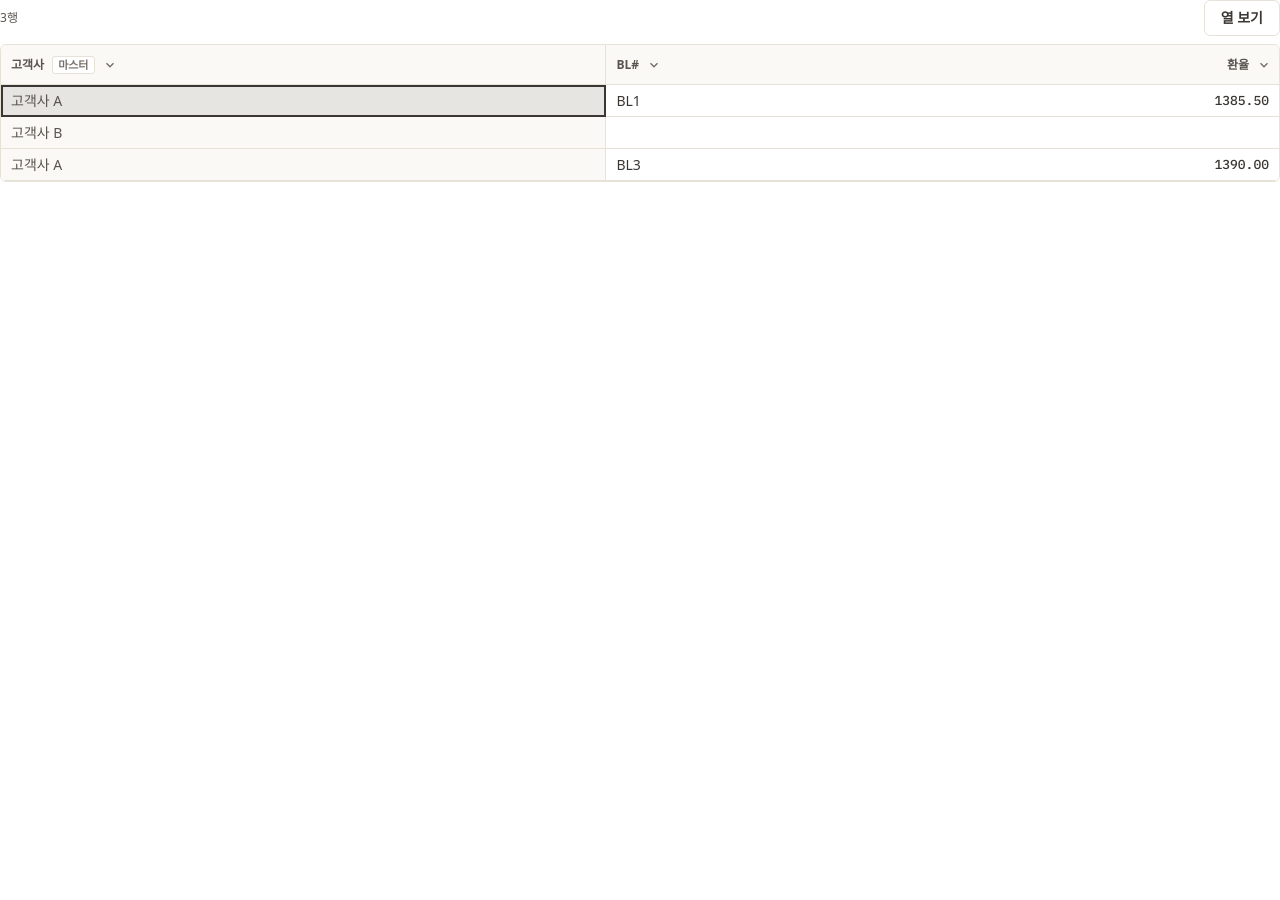
Test: 열 필터에서 값을 빼면 그 행이 숨고, 몇 행 중 몇 행인지 알려줘요
The image size is (1280, 900).
Step 1. Click the button named "고객사 필터와 정렬" → (110, 64), box top-left (98, 54), bottom-right (120, 76)
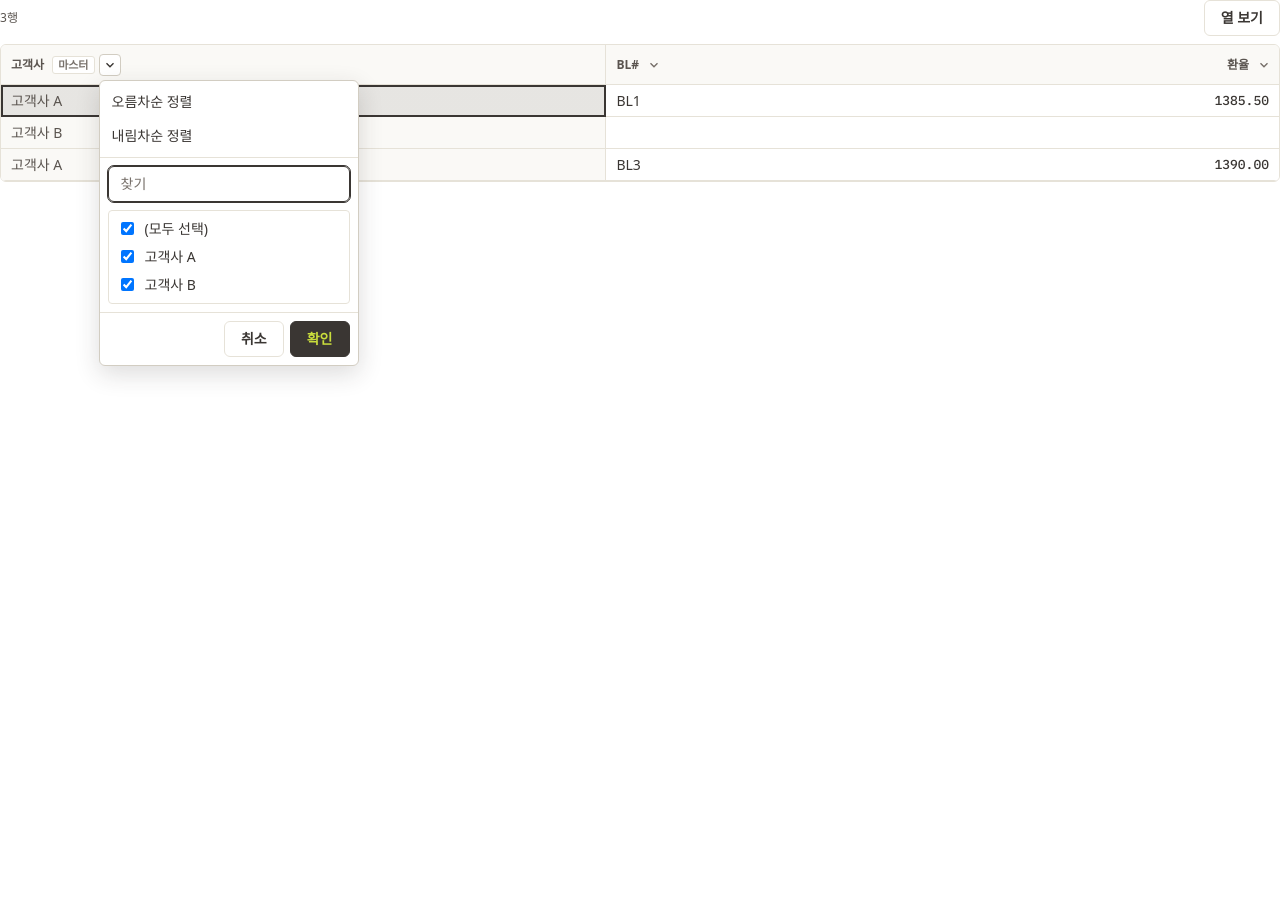
Step 2. Click the checkbox labelled "고객사 B" → (127, 284), box top-left (120, 278), bottom-right (134, 291)
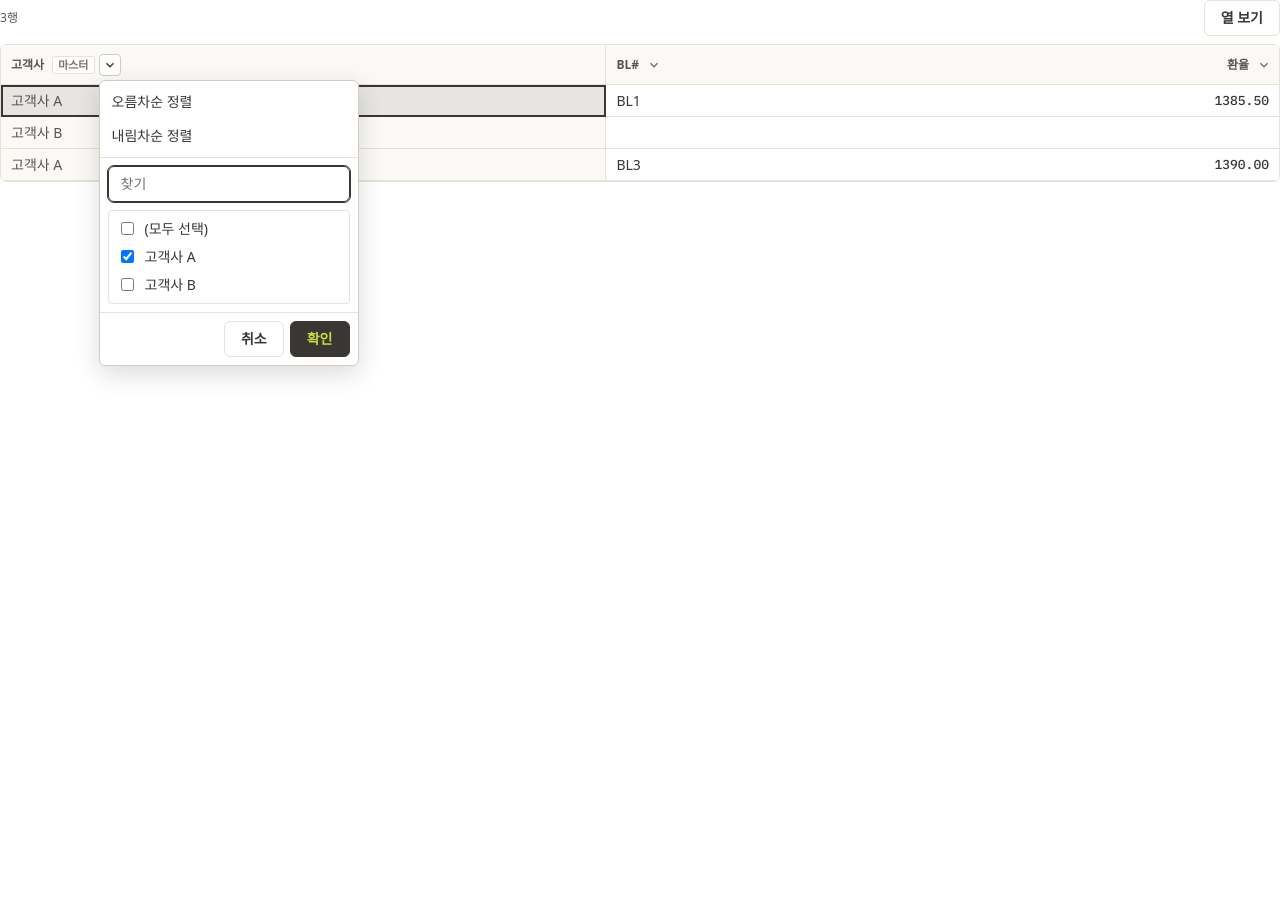
Step 3. Click the button "확인" → (320, 338), box top-left (290, 320), bottom-right (350, 356)
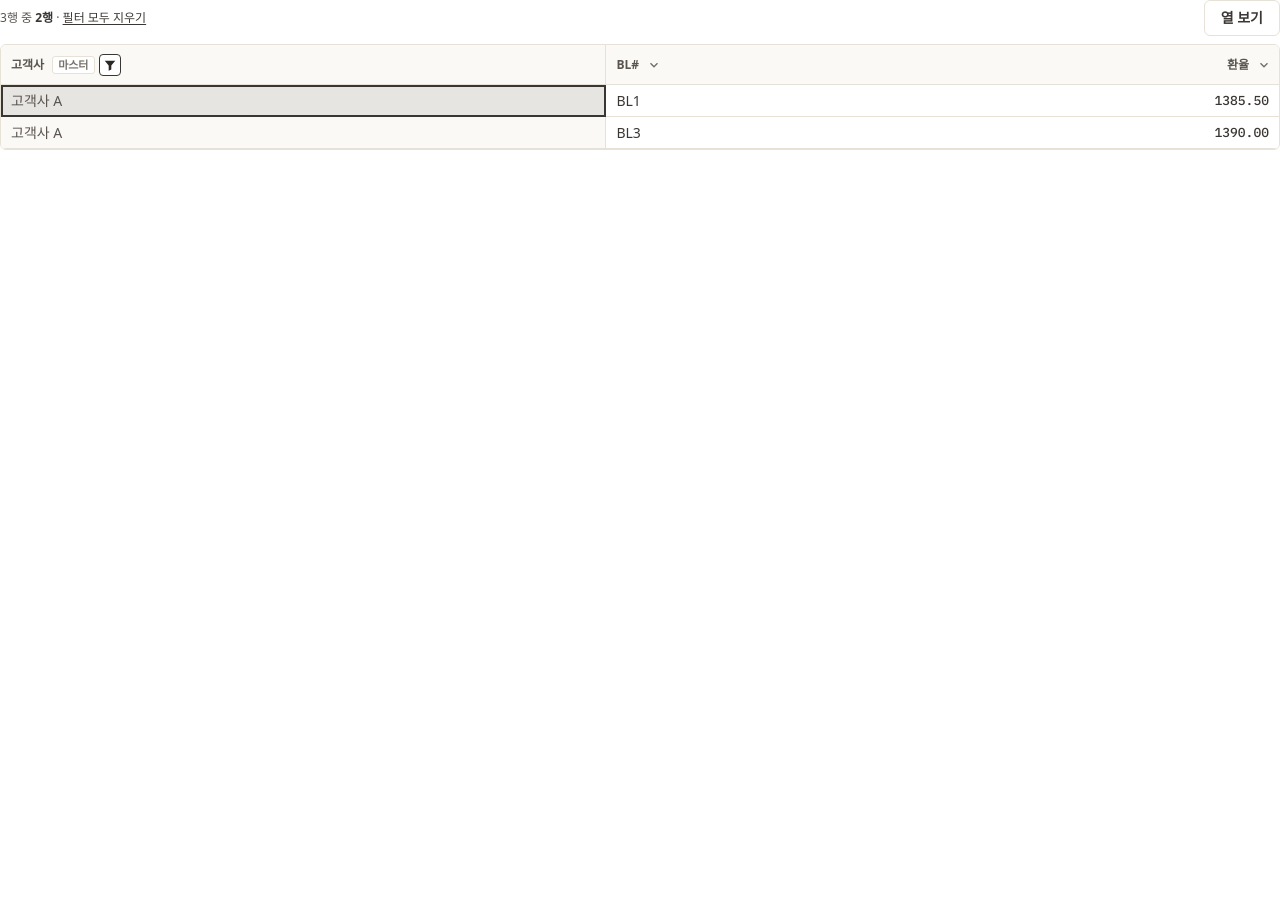
Expected: the text "고객사 B" is gone
Expected: the text "3행 중 2행 · 필터 모두 지우기" is shown, top-left (0, 9), bottom-right (146, 27)
Expected: the button named "고객사 필터와 정렬 (거르는 중)" is shown, top-left (98, 54), bottom-right (120, 76)
Step 4. Click the button "필터 모두 지우기" → (104, 18), box top-left (63, 9), bottom-right (146, 27)
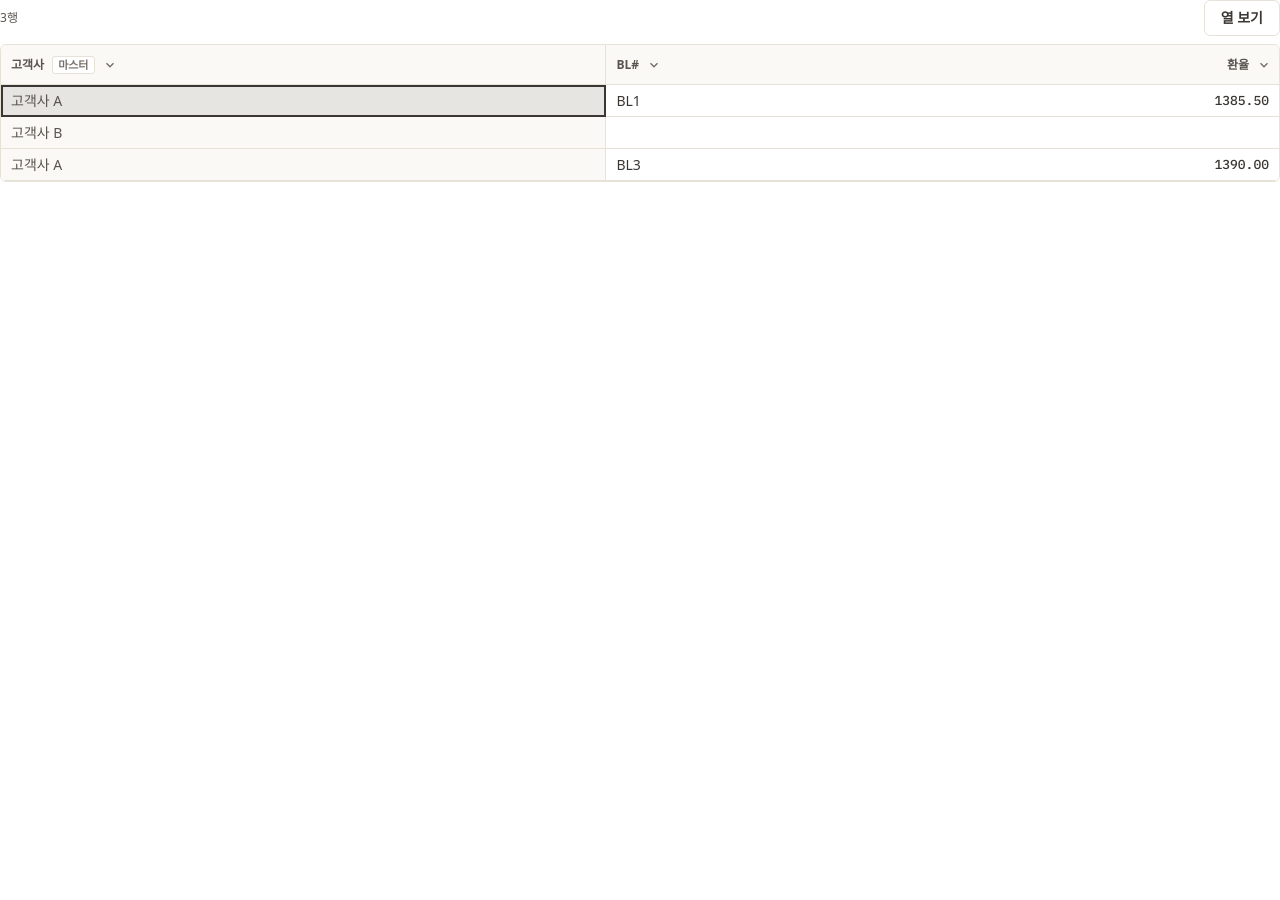
Expected: the text "고객사 B" is shown, top-left (1, 117), bottom-right (606, 149)
